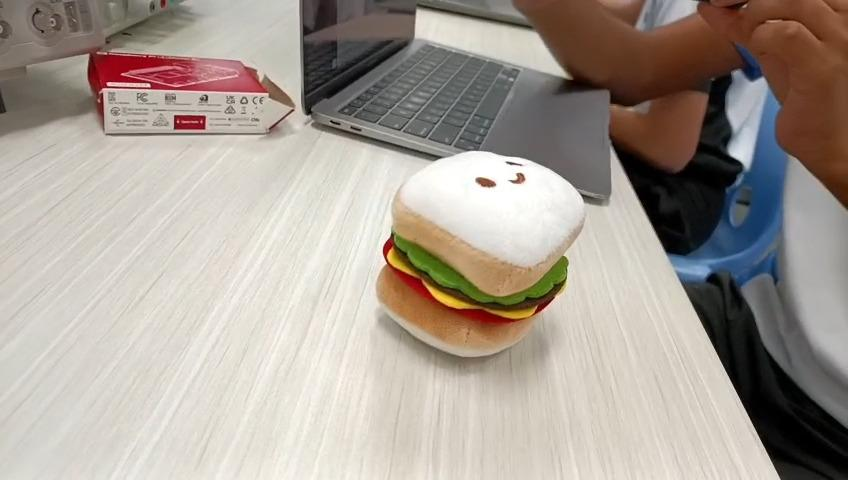objects: (377, 148, 589, 363)
